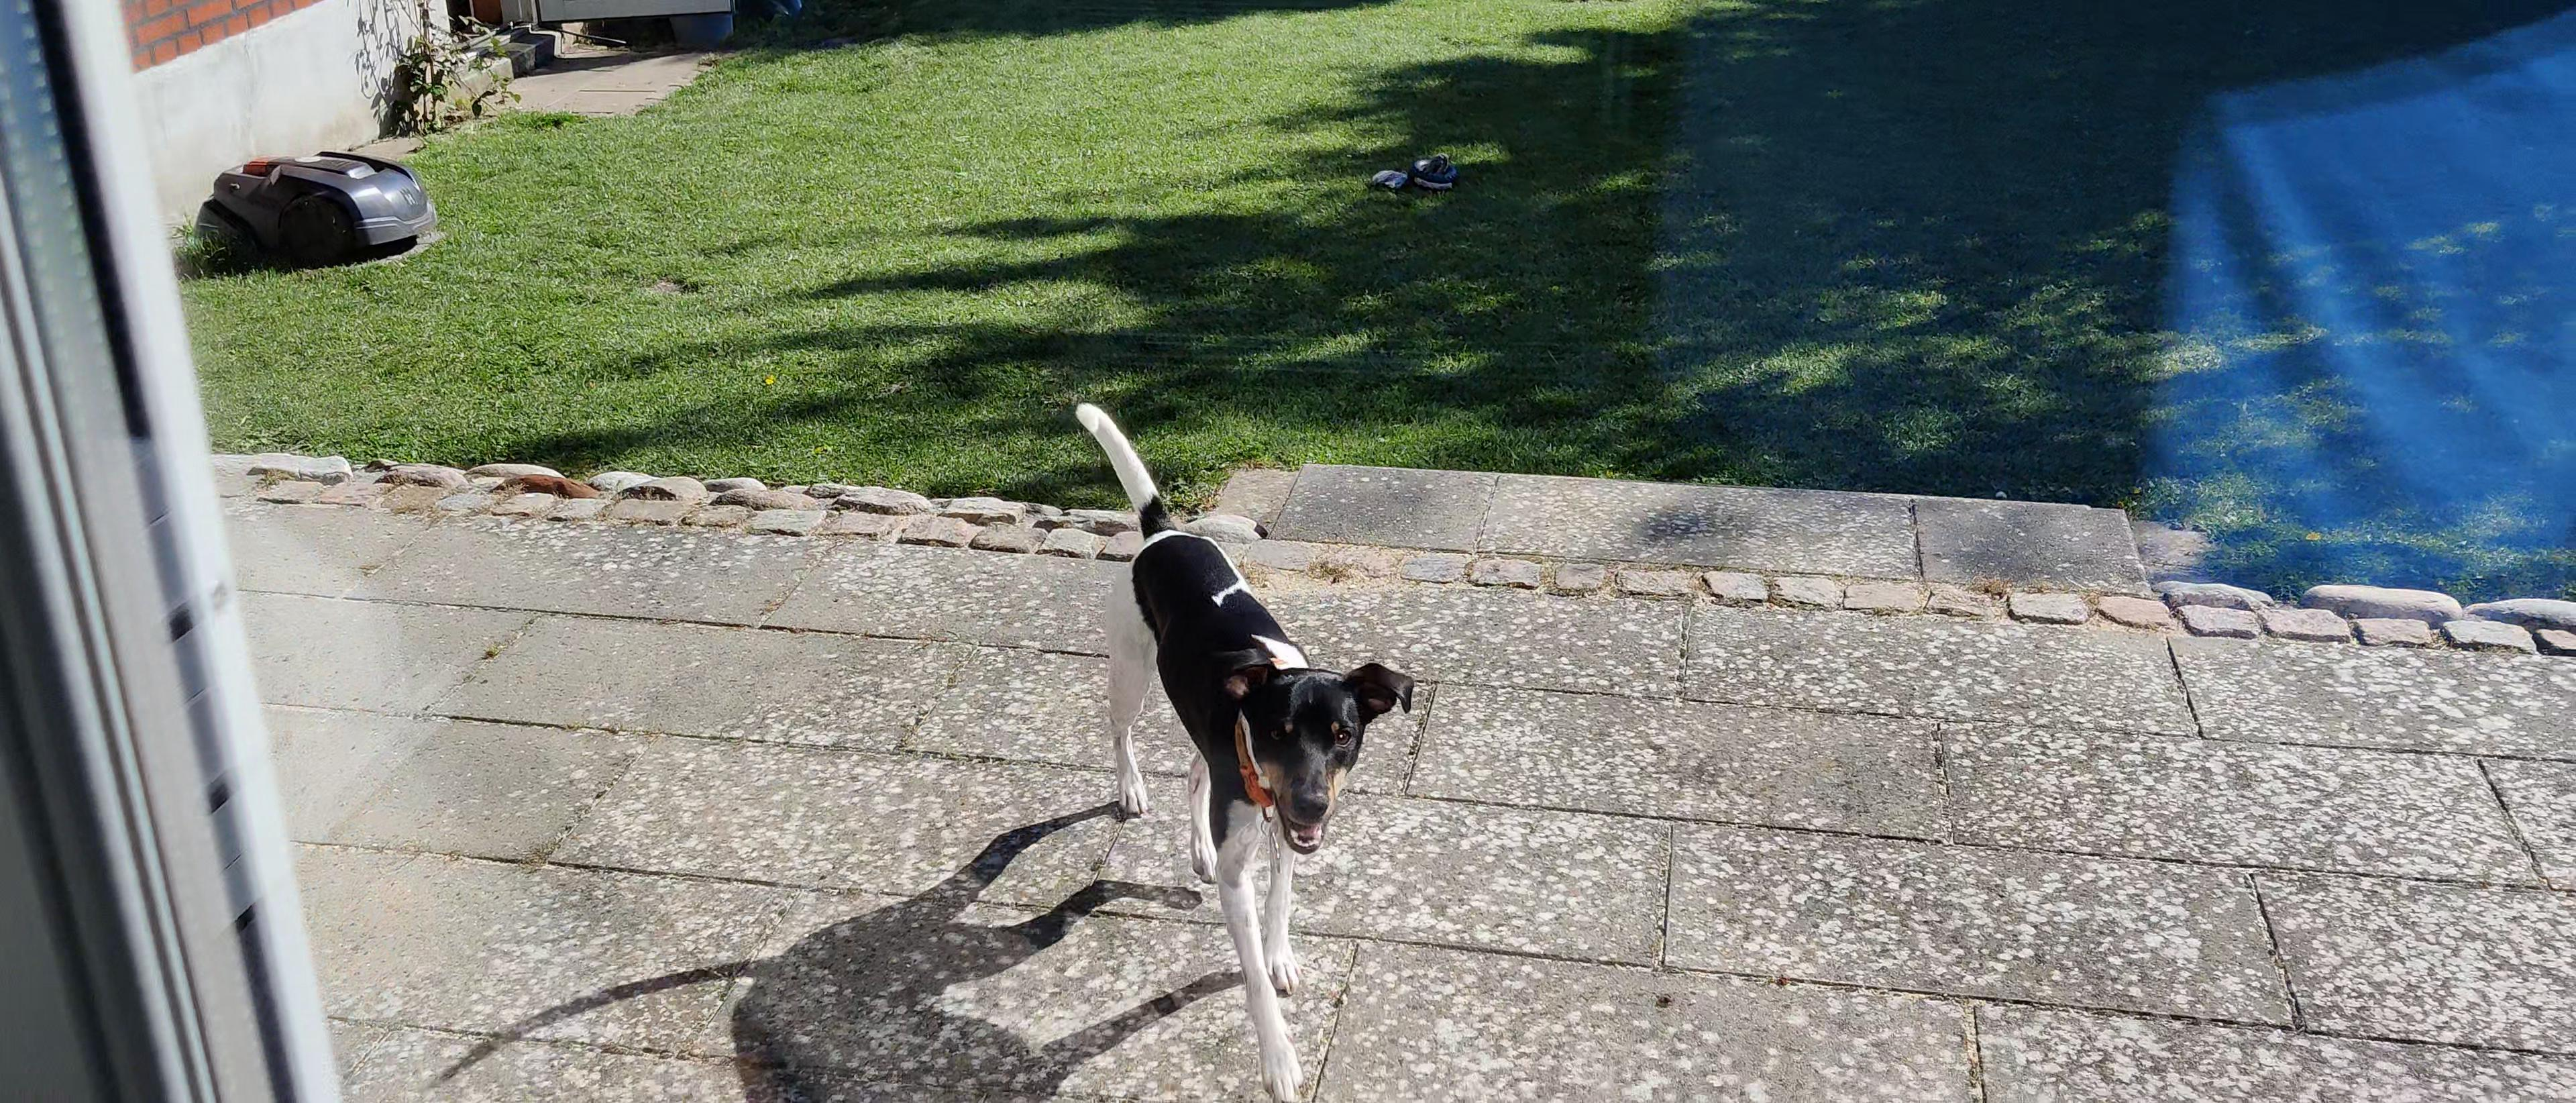Dog: (1050, 390, 1423, 1103)
